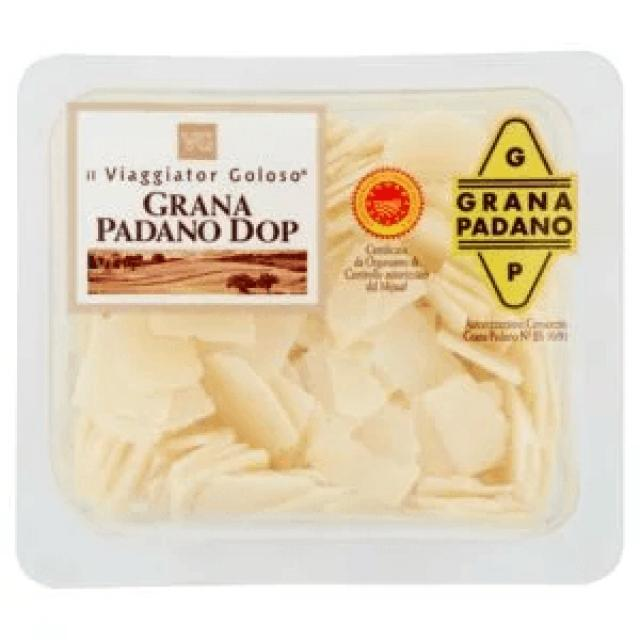cheese: (13, 49, 631, 587)
